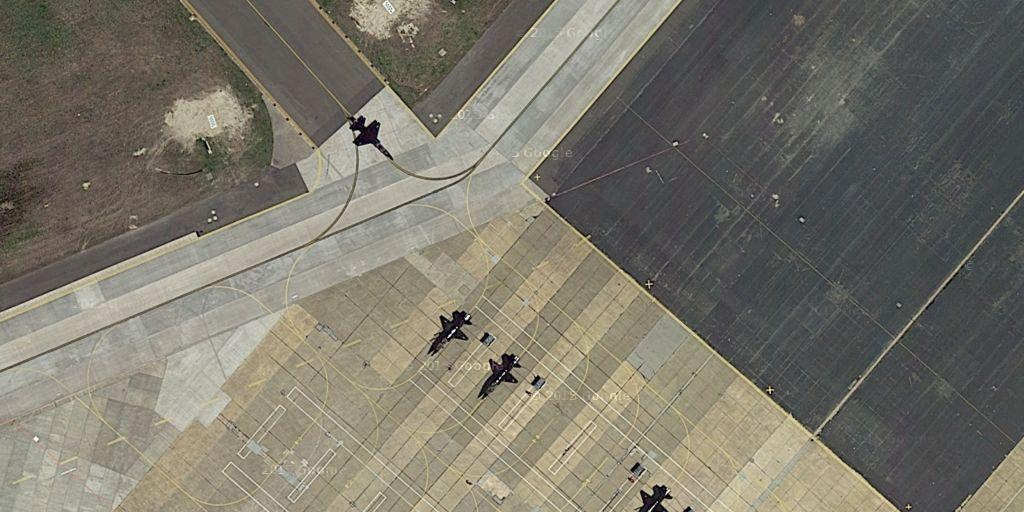plane: (346, 111, 396, 165), (475, 348, 522, 403), (426, 307, 475, 357)
